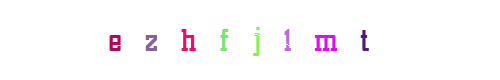1: (210, 0, 290, 80)
E: (75, 0, 155, 80)
F: (202, 0, 282, 80)
H: (160, 0, 240, 80)
J: (210, 0, 290, 80)
M: (285, 0, 365, 80)
T: (324, 0, 404, 80)
Z: (143, 0, 223, 80)
